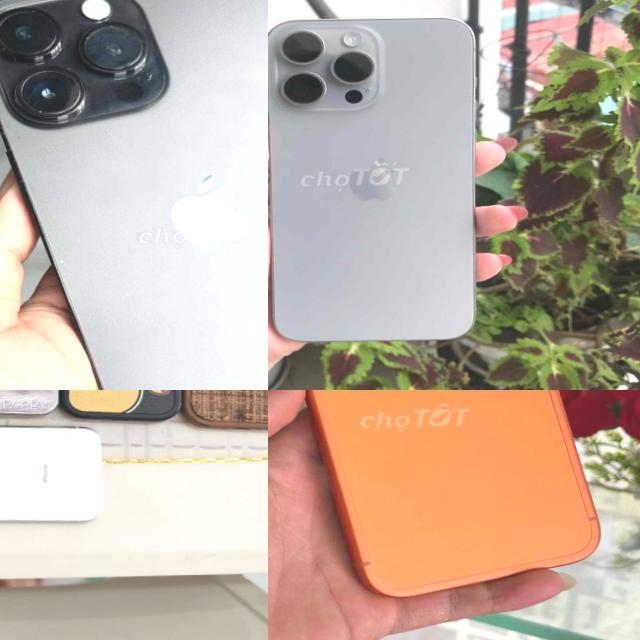gen_14: (0, 0, 268, 390)
gen_15: (268, 0, 501, 361)
gen_17: (268, 390, 610, 606)
gen_x_xs: (0, 421, 114, 534)
